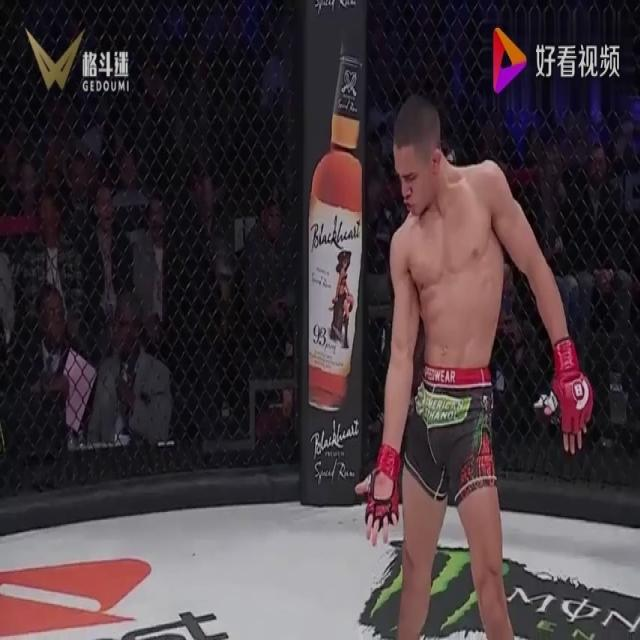non-fight: (350, 85, 588, 639)
